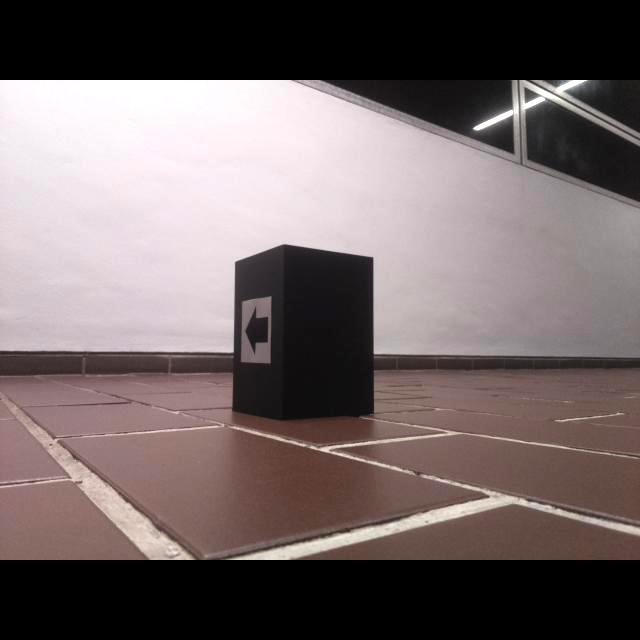LEFT: (244, 305, 269, 356)
